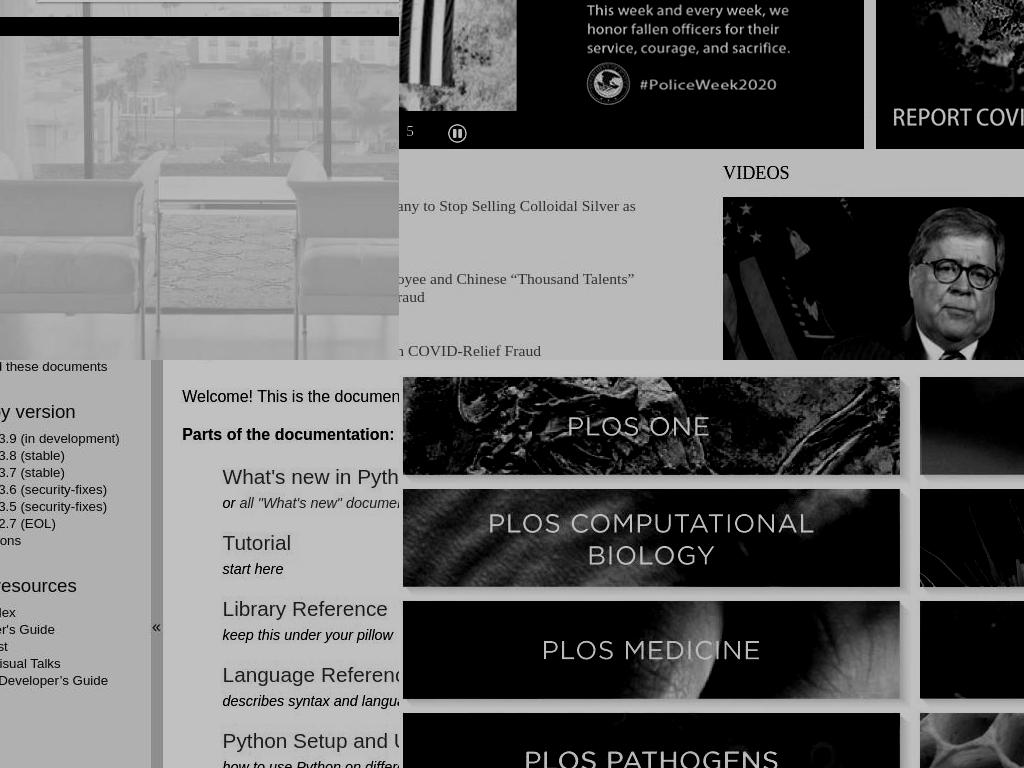button: (403, 423, 920, 441), (403, 535, 920, 553), (403, 647, 920, 665), (403, 759, 920, 768), (920, 423, 1024, 441), (920, 535, 1024, 553), (920, 647, 1024, 665), (399, 111, 433, 152), (447, 124, 468, 145)
heading: (0, 17, 399, 36), (723, 164, 1024, 183), (399, 164, 674, 183), (0, 402, 145, 420), (0, 576, 145, 594)
image: (403, 377, 916, 489), (403, 489, 916, 601), (403, 601, 916, 713), (399, 0, 864, 112), (723, 197, 1024, 360), (403, 713, 916, 768), (876, 0, 1024, 150), (920, 377, 1024, 489), (920, 489, 1024, 601), (920, 601, 1024, 713)
link: (399, 197, 636, 233), (399, 269, 634, 305), (222, 465, 399, 489), (222, 663, 399, 687), (222, 729, 399, 753), (222, 597, 388, 621), (239, 495, 399, 512), (399, 341, 541, 359), (0, 430, 120, 446), (0, 672, 108, 688), (0, 481, 107, 497), (0, 498, 107, 514), (222, 531, 292, 555), (0, 360, 107, 374), (0, 447, 65, 463), (0, 464, 65, 480), (0, 655, 61, 671), (0, 515, 56, 531), (0, 621, 55, 637), (0, 532, 21, 548), (0, 604, 16, 620)
text: (182, 386, 399, 409), (222, 688, 399, 710), (182, 426, 396, 444), (222, 622, 393, 644), (222, 754, 399, 768), (222, 556, 284, 578), (222, 495, 240, 512), (152, 618, 161, 635)
